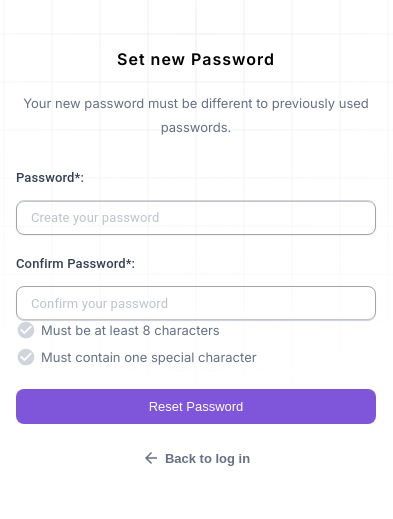
SetNewPasswordPage › handles reset password internal server error
Type "Test123!@" into the password field with placeholder "Create your password".
click(196, 218); type("Test123!@")  # box left=16, top=200, right=376, bottom=235
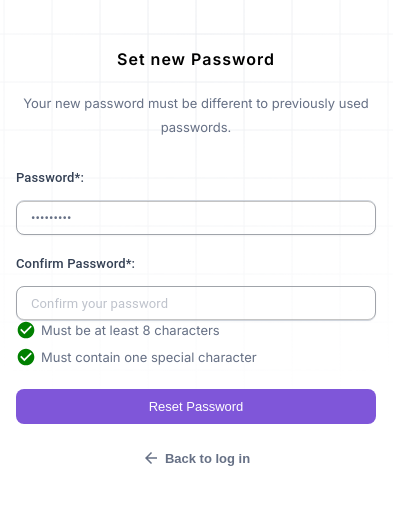
Type "Test123!@" into the password field with placeholder "Confirm your password".
click(196, 303); type("Test123!@")  # box left=16, top=286, right=376, bottom=321
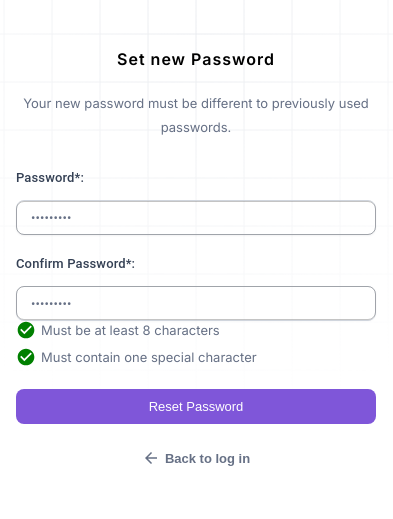
Click the button "Reset Password".
click(196, 407)  # box left=16, top=389, right=376, bottom=424
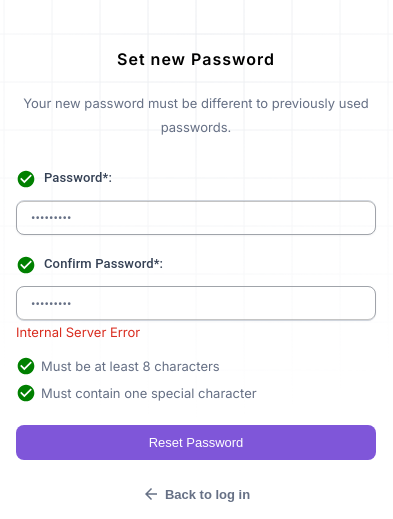
Result: the text "Internal Server Error" is shown at left=16, top=324, right=140, bottom=340
